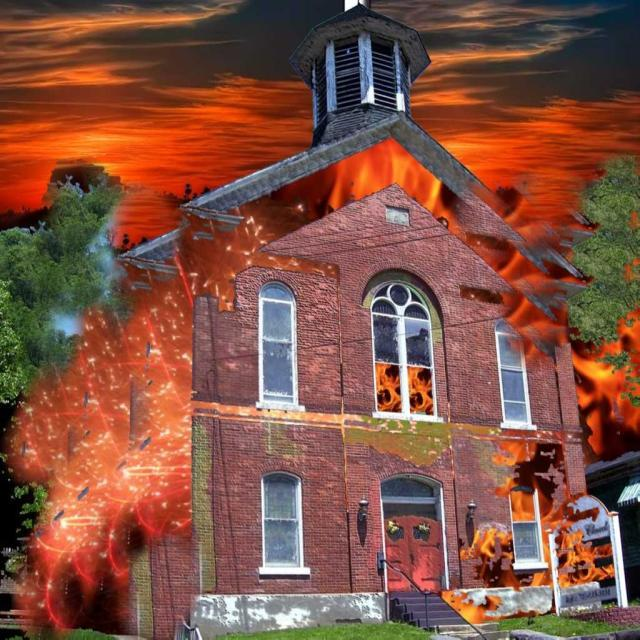Fire: (574, 353, 638, 451), (348, 158, 429, 194), (560, 528, 608, 587), (478, 528, 513, 576), (406, 366, 438, 416), (372, 360, 396, 410), (450, 594, 490, 624), (505, 248, 533, 287)
